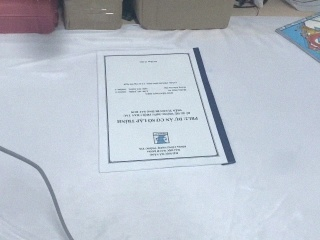book: (268, 9, 320, 65)
box: (121, 1, 235, 32), (60, 1, 124, 32)
